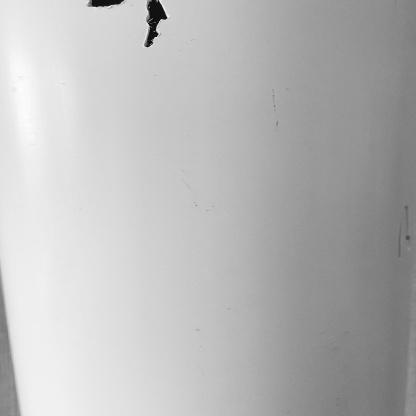kongdong: (144, 1, 179, 52), (76, 2, 132, 14)
